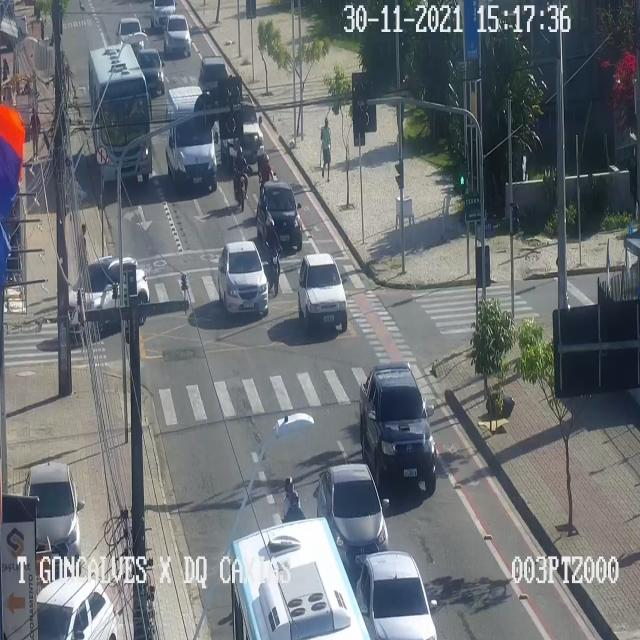Bus: (230, 517, 370, 639), (88, 44, 152, 180)
Car: (359, 366, 435, 494), (316, 463, 388, 571), (356, 550, 436, 639), (68, 257, 148, 339), (24, 462, 80, 572), (165, 86, 217, 190), (36, 576, 116, 639), (218, 240, 268, 315), (298, 252, 346, 330), (220, 93, 264, 168), (256, 181, 302, 249), (198, 56, 228, 107), (136, 48, 164, 93), (116, 17, 144, 59), (163, 14, 191, 55), (149, 0, 180, 29)
Motorcycle: (264, 217, 282, 294), (282, 476, 306, 522), (233, 146, 247, 210), (258, 153, 272, 208)
